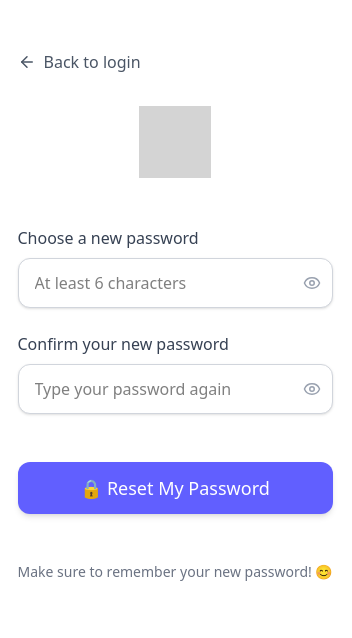
ResetPassword Component › shows an error when passwords do not match
The image size is (352, 638).
Type "password123" into the password field with test id "password-input". click: (175, 283)
box: [18,258,332,308]
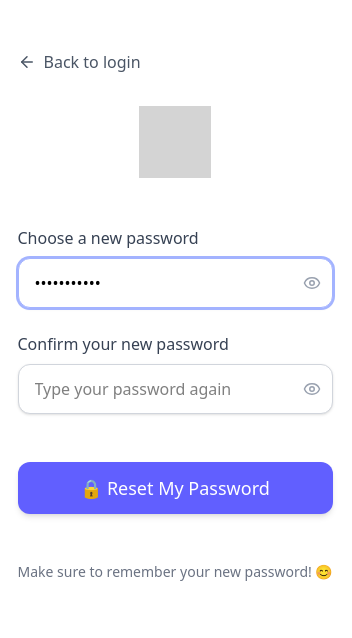
Type "different123" into the password field with test id "confirm-password-input". click: (175, 389)
box: [18,364,332,414]
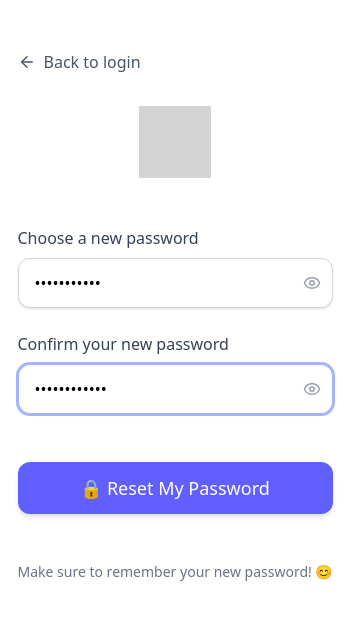
Click the button with test id "reset-password-button". click: (175, 488)
box: [18,462,332,514]
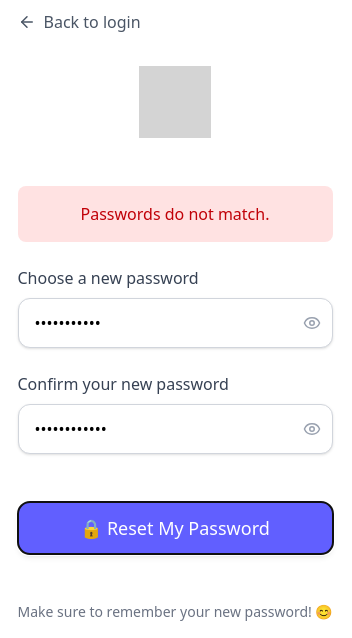
Result: the text "Passwords do not match." is shown at [18,186,332,242]
Result: the text with test id "error-message" reads "Passwords do not match." at [80,203,270,225]
